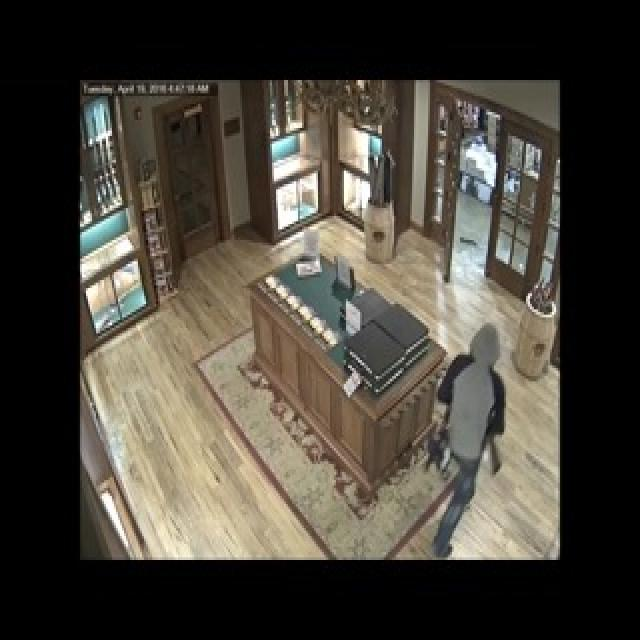thief: (414, 322, 509, 558)
